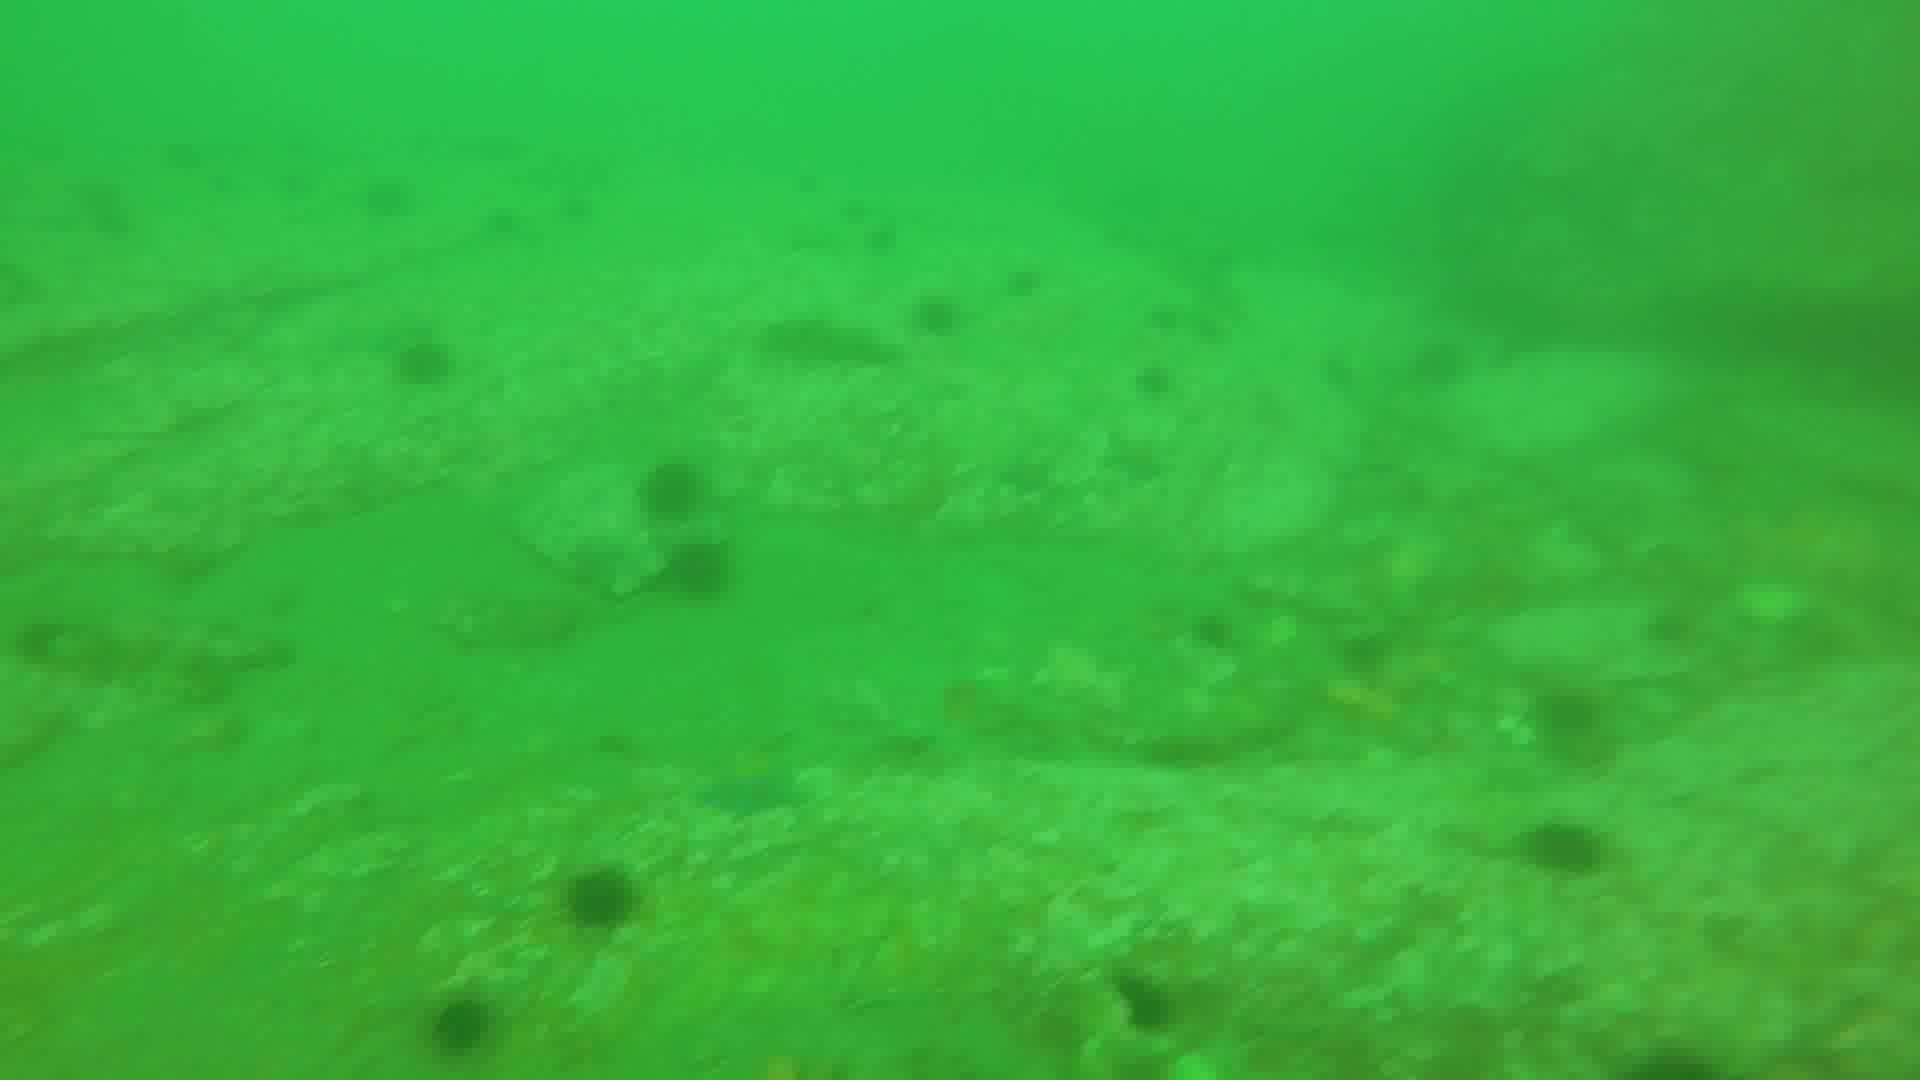echinus: (556, 862, 644, 936), (1527, 682, 1607, 760), (1519, 815, 1609, 884), (661, 535, 738, 607), (1108, 968, 1182, 1040), (633, 456, 709, 526), (423, 992, 500, 1062), (1404, 334, 1473, 394), (388, 334, 458, 392), (356, 171, 418, 224), (909, 289, 967, 342), (1188, 607, 1241, 655), (1000, 258, 1048, 303), (1130, 359, 1178, 404)
starfish: (694, 746, 807, 822), (1100, 429, 1174, 491)
